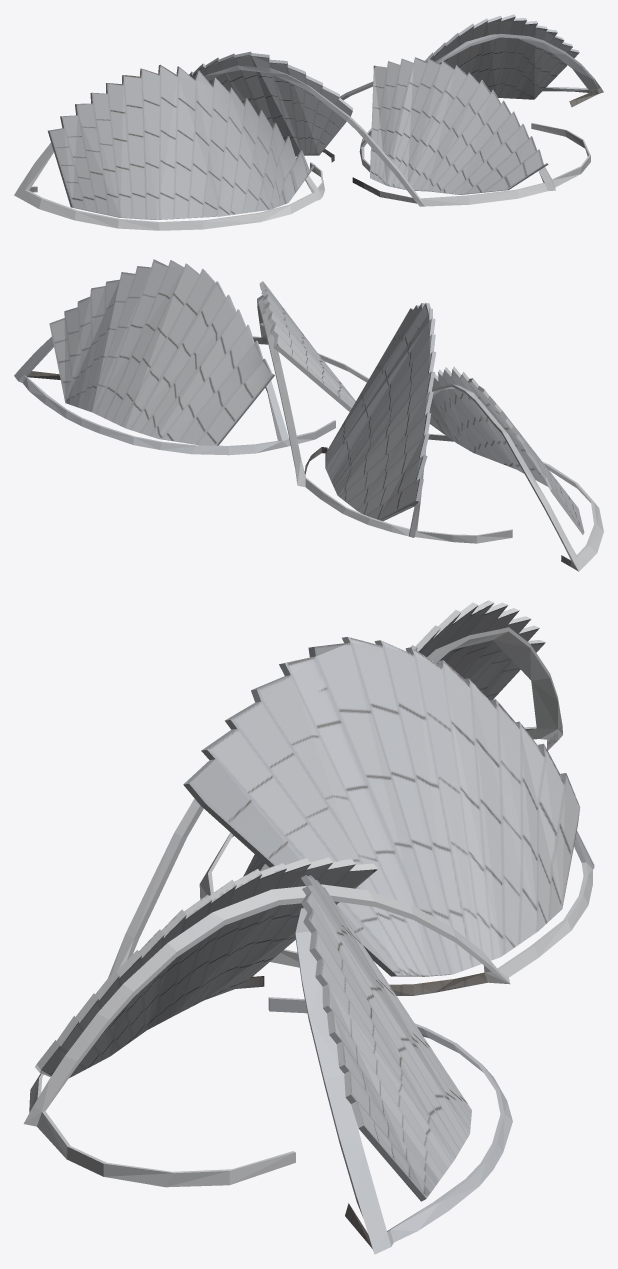
The model's file is 119_ffff.glb.
3 renders of one model, top to bottom at view 1: azimuth 30°, elevation 25°; view 2: azimuth 150°, elevation 25°; view 3: azimuth 270°, elevation 25°, orthographic. The views are drawn at different scales.
Visible parts, largest first — view 1: 119.001; view 2: 119.001; view 3: 119.001.
Boxes of the visible parts, x1,y1,x2,y2 form: 119.001: (14,14,603,230); 119.001: (14,259,603,571); 119.001: (23,600,594,1254).
Size of the model in its own units: 103 by 25.38 by 46.84.
1 material, 1 textured.
